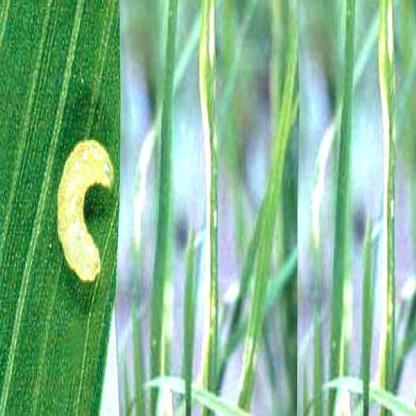whorl-maggot: (56, 131, 115, 284)
